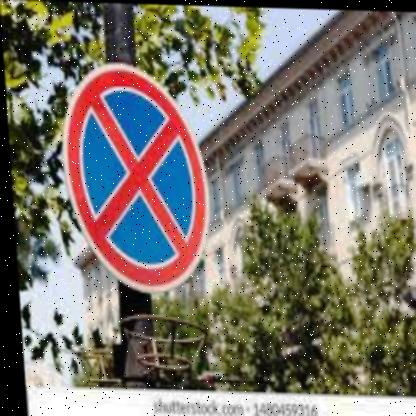No stopping: (60, 57, 208, 297)
